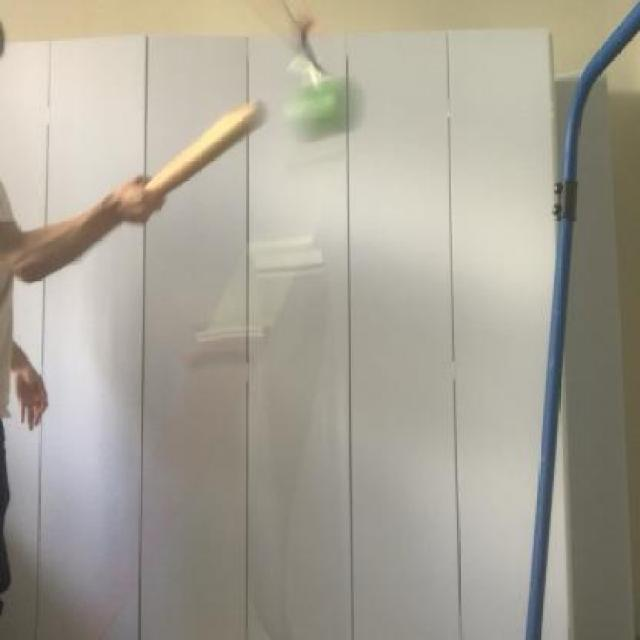baseball: (279, 69, 372, 156)
